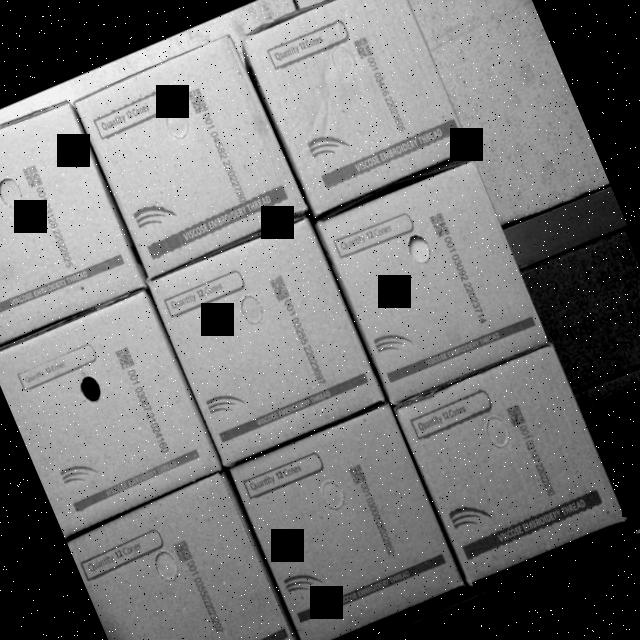box: (150, 220, 386, 466), (393, 342, 627, 585), (70, 32, 302, 274), (228, 404, 461, 640), (318, 162, 546, 400), (0, 286, 219, 532), (238, 0, 472, 214), (66, 473, 301, 640), (0, 94, 139, 348)
